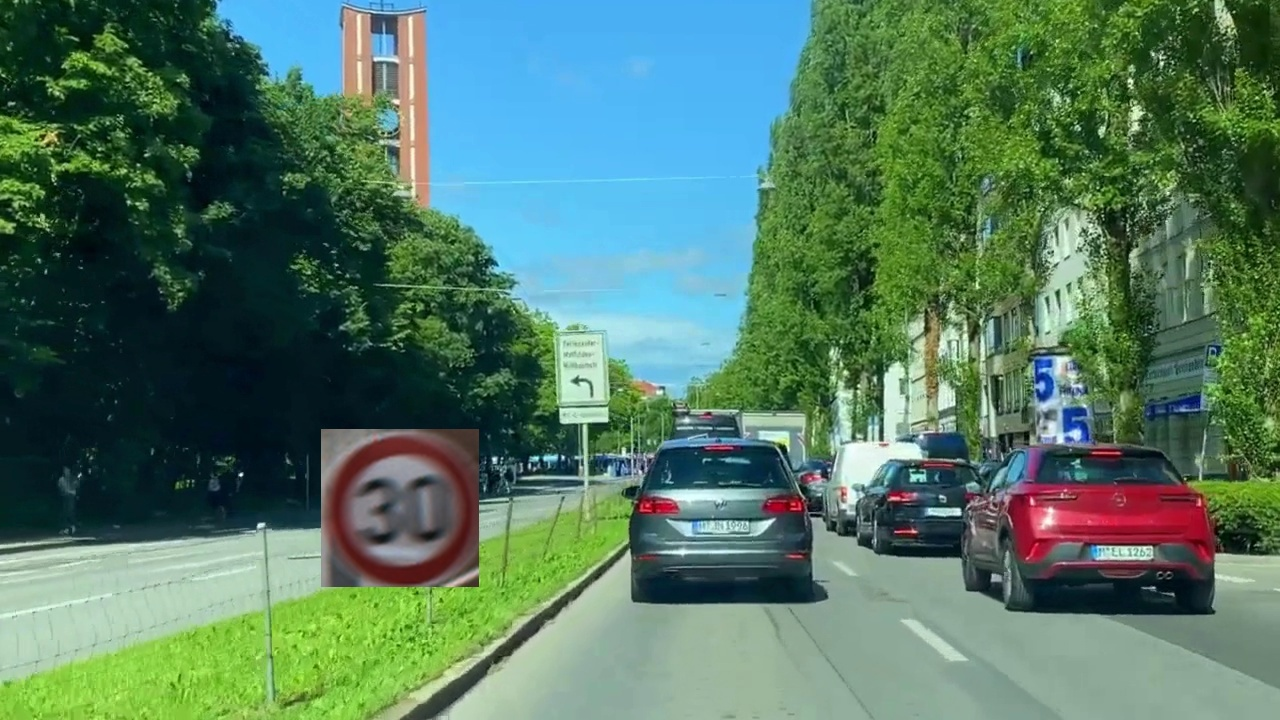Speed 30: (321, 429, 479, 587)
